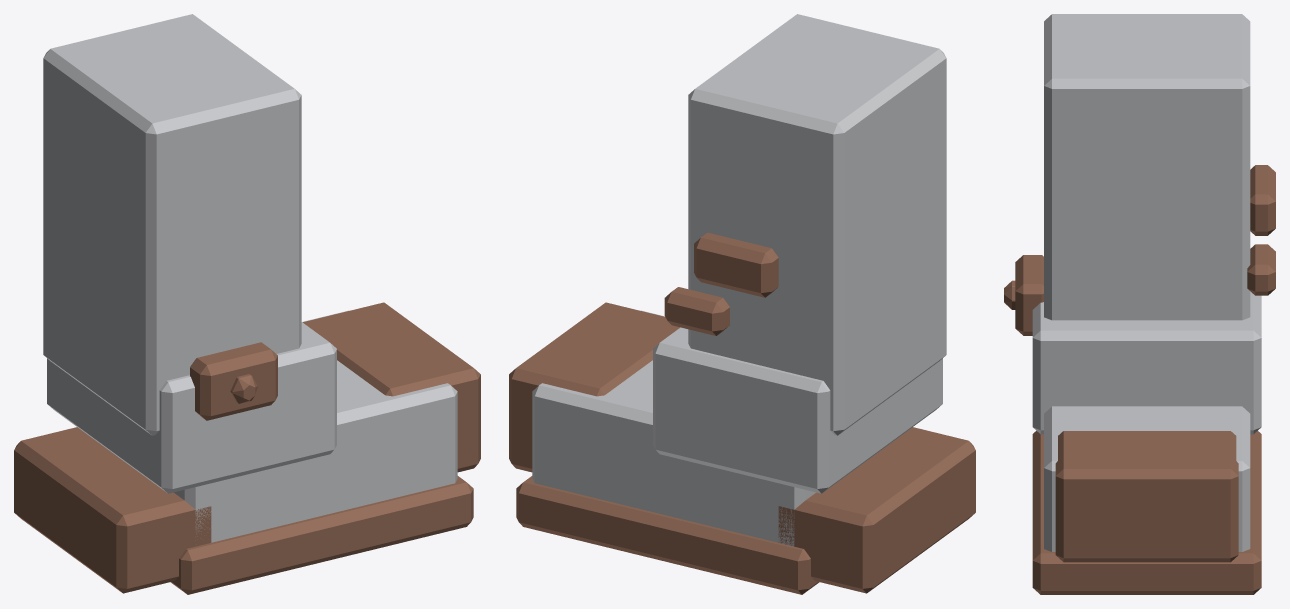
Rendered from PU_ExtraSpeed.fbx.
3 renders of one model, left to right at view 1: azimuth 30°, elevation 25°; view 2: azimuth 150°, elevation 25°; view 3: azimuth 270°, elevation 25°, orthographic. The views are drawn at different scales.
Parts seen in each view (by area): view 1: PU_ExtraSpeed; view 2: PU_ExtraSpeed; view 3: PU_ExtraSpeed.
Boxes of the visible parts, left/top/right/bottom form: PU_ExtraSpeed: left=14, top=14, right=480, bottom=594; PU_ExtraSpeed: left=509, top=14, right=975, bottom=594; PU_ExtraSpeed: left=1004, top=14, right=1275, bottom=594.
Bounding box in the file's own units: 0.45 × 0.55 × 0.3074.
